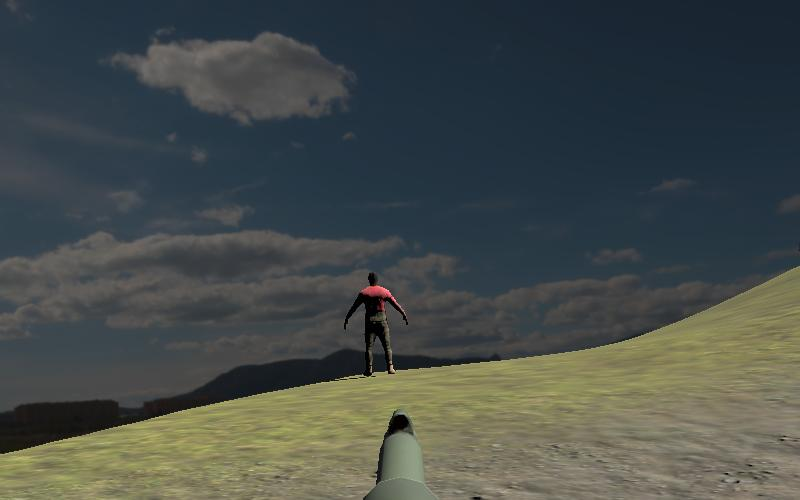Human: (343, 271, 408, 377)
